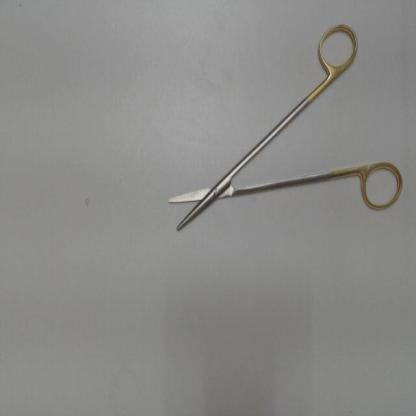7 Metzenbaum Scissors: (160, 18, 406, 238)
